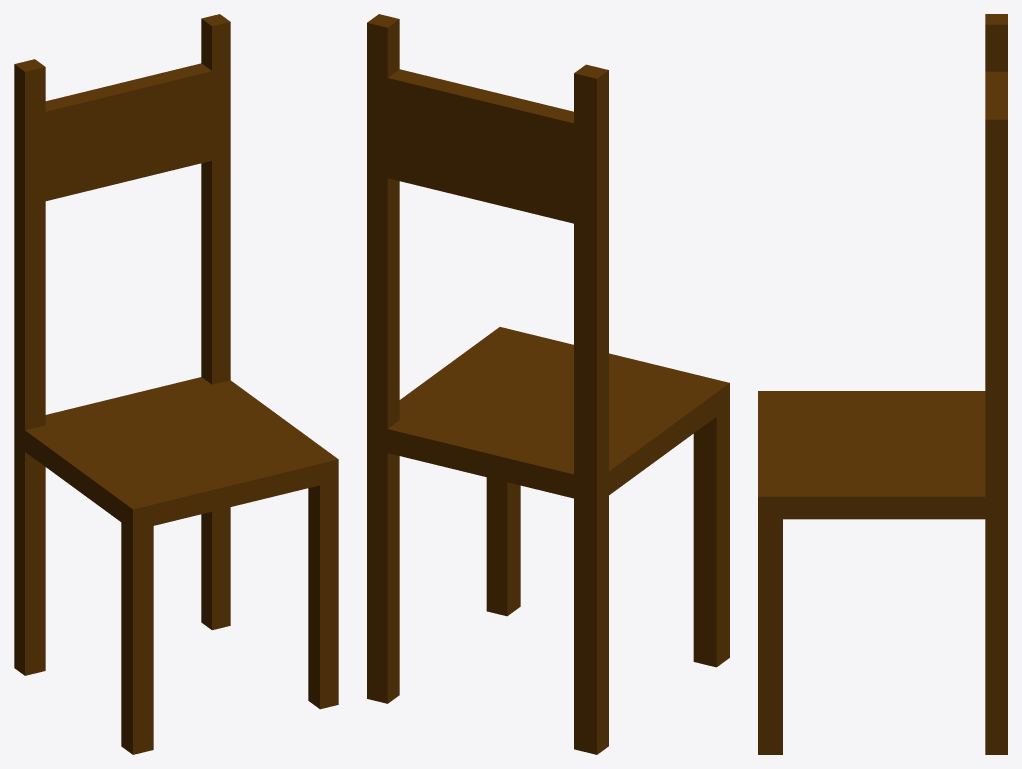
Rendered from chair.fbx.
3 views of the same model, side by side, from view 1: azimuth 30°, elevation 25°; view 2: azimuth 150°, elevation 25°; view 3: azimuth 270°, elevation 25° (orthographic). The views are drawn at different scales.
Visible parts, largest first — view 1: Chair; view 2: Chair; view 3: Chair.
Boxes of the visible parts, bbox=[...] form: Chair: bbox=[14, 14, 338, 754]; Chair: bbox=[367, 14, 729, 754]; Chair: bbox=[758, 14, 1007, 754].
Size of the model in its own units: 48 by 135 by 48.
